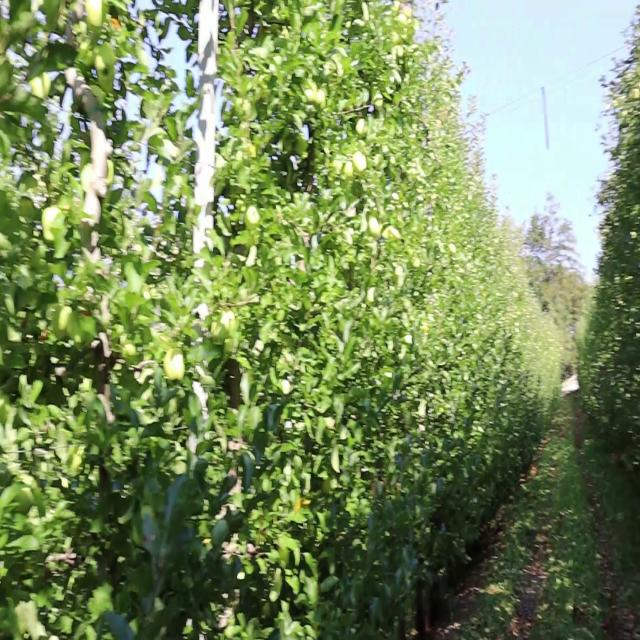apple: (163, 348, 186, 386), (41, 206, 58, 241), (86, 0, 104, 31), (30, 74, 50, 98), (245, 203, 260, 231), (353, 151, 367, 176), (355, 118, 366, 138), (345, 162, 355, 181)
